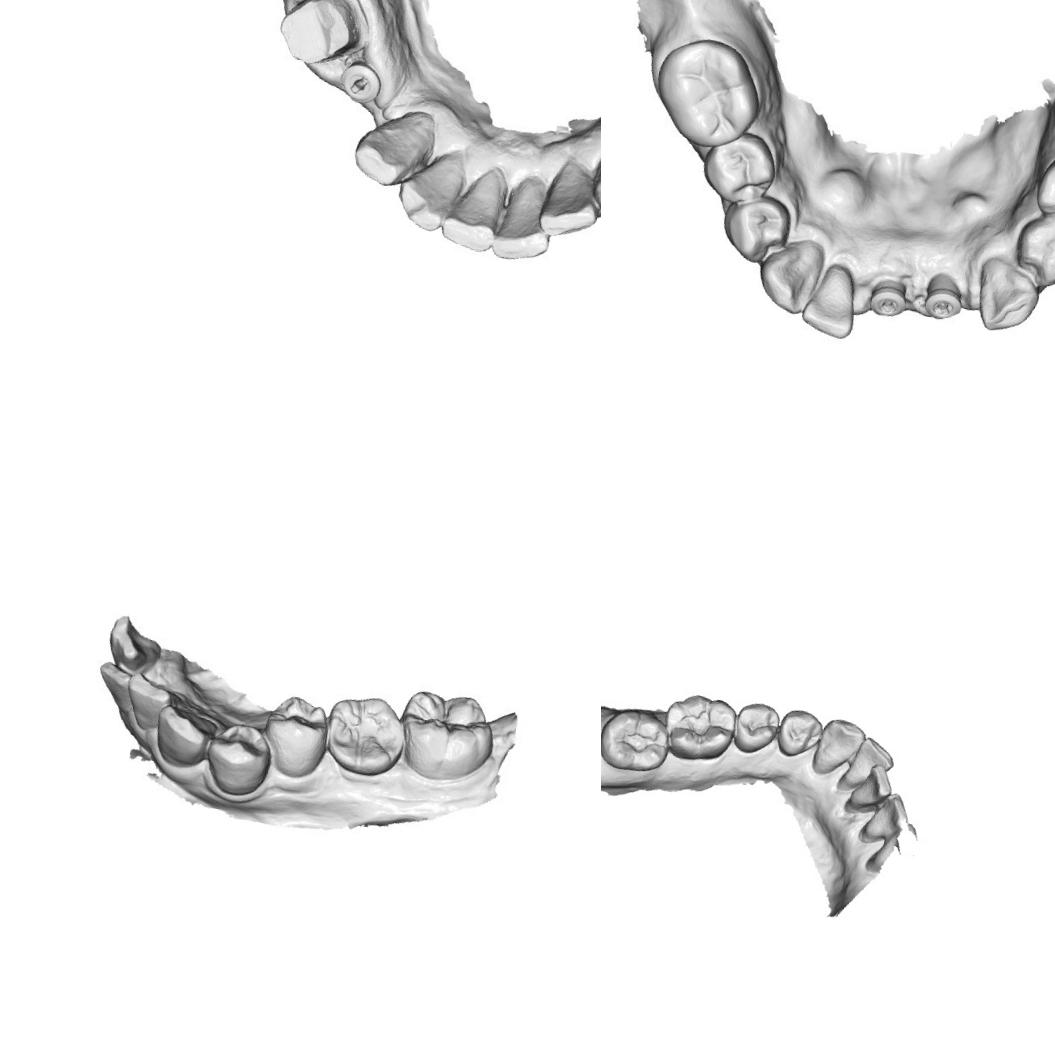canine: (196, 716, 280, 806), (355, 101, 438, 188), (970, 252, 1048, 332), (756, 234, 825, 312), (810, 713, 868, 780)
crown: (269, 0, 365, 73)
implant_minus: (914, 260, 974, 335), (328, 52, 393, 118), (864, 264, 917, 327)
incisor: (396, 131, 474, 234), (442, 152, 512, 252), (488, 171, 561, 260), (538, 154, 601, 240), (800, 256, 867, 336), (152, 700, 224, 770), (122, 671, 186, 736), (107, 614, 171, 676), (840, 732, 899, 793), (858, 787, 912, 847), (846, 759, 894, 816)
molar: (650, 31, 764, 146), (398, 684, 500, 784), (656, 687, 740, 768), (601, 703, 674, 777)
premolar: (322, 688, 412, 774), (696, 122, 778, 206), (262, 691, 340, 773), (720, 186, 794, 263), (726, 696, 782, 758), (1013, 210, 1055, 292), (773, 701, 826, 762), (1028, 149, 1055, 241)
